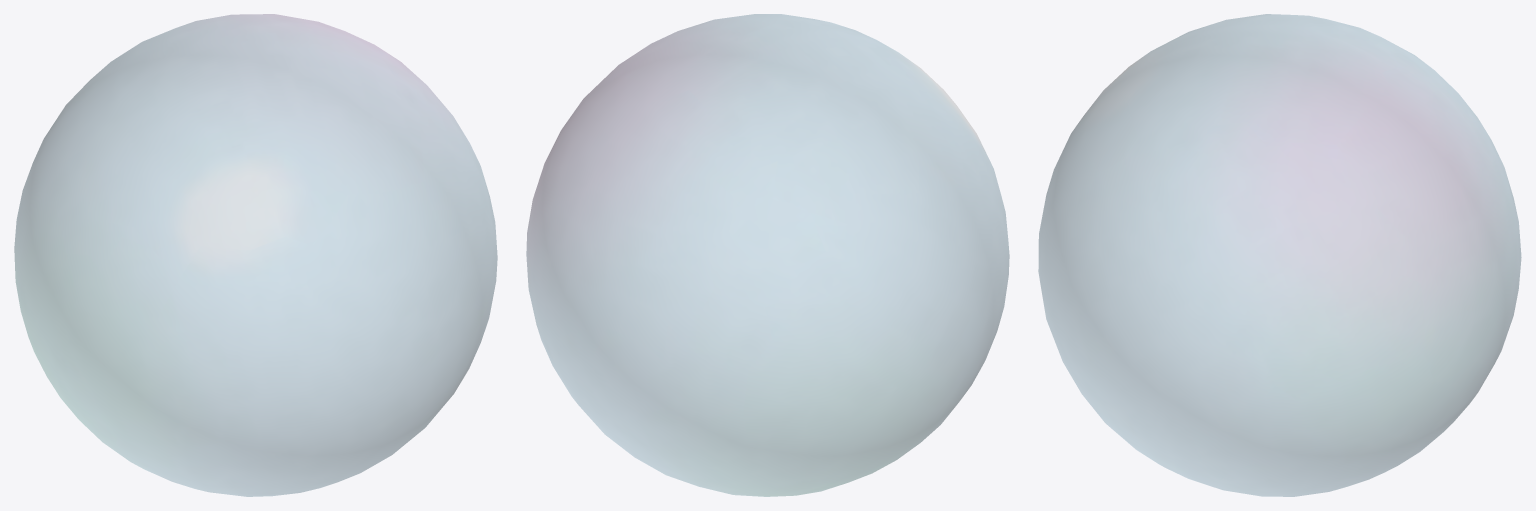
Rendered from item.bubble.glb.
3 views of the same model, side by side, from view 1: azimuth 30°, elevation 25°; view 2: azimuth 150°, elevation 25°; view 3: azimuth 270°, elevation 25° (orthographic).
Visible parts, largest first — view 1: bubble; view 2: bubble; view 3: bubble.
Part boxes in pixels (bbox=[...]): bubble: bbox=[14, 14, 497, 496]; bubble: bbox=[526, 14, 1009, 496]; bubble: bbox=[1038, 14, 1521, 496].
Bounding box in the file's own units: 1 × 1 × 1.
Materials: 1 (1 with a texture image).
